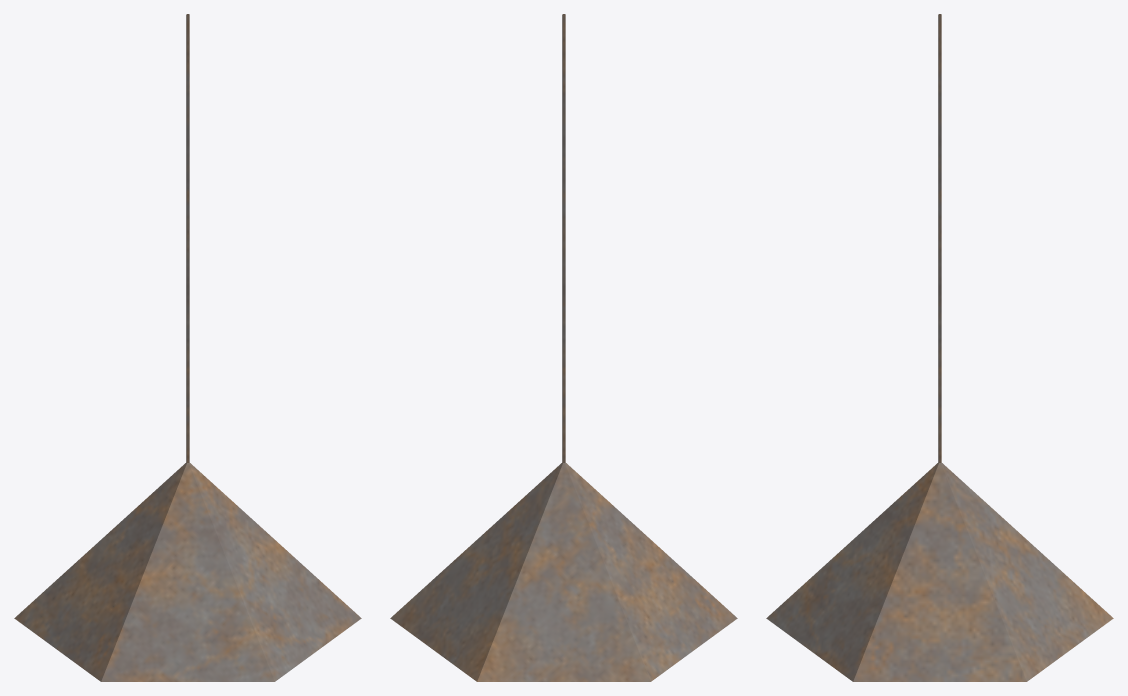
File: lamp.fbx
3 renders of one model, left to right at view 1: azimuth 30°, elevation 25°; view 2: azimuth 150°, elevation 25°; view 3: azimuth 270°, elevation 25°, orthographic.
Visible parts, largest first — view 1: Cone; view 2: Cone; view 3: Cone.
Boxes of the visible parts, x1,y1,x2,y2 form: Cone: [14, 14, 361, 681]; Cone: [390, 14, 737, 681]; Cone: [766, 14, 1113, 681].
Size of the model in its own units: 51.96 by 115 by 60.
